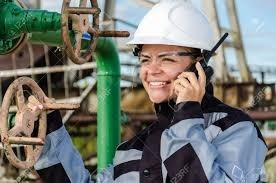helmet: (124, 1, 218, 58)
person with partial safety: (113, 1, 267, 183)
